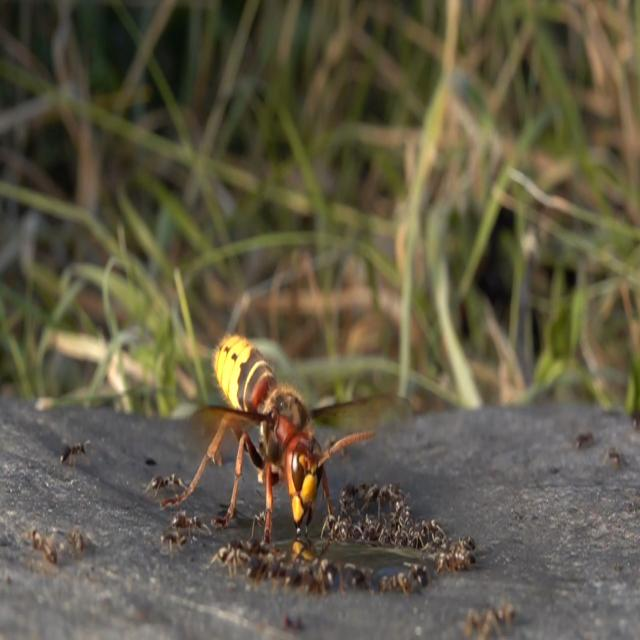Hornets: (175, 326, 416, 554)
